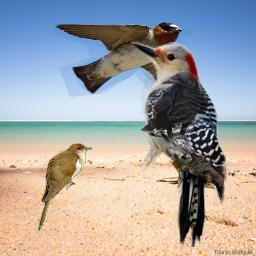Crow: (141, 71, 208, 154)
Cuckoo: (38, 142, 92, 233)
Swallow: (54, 22, 199, 105)
Woodpecker: (131, 42, 227, 247)
